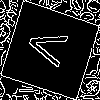V: (25, 25, 78, 71)
